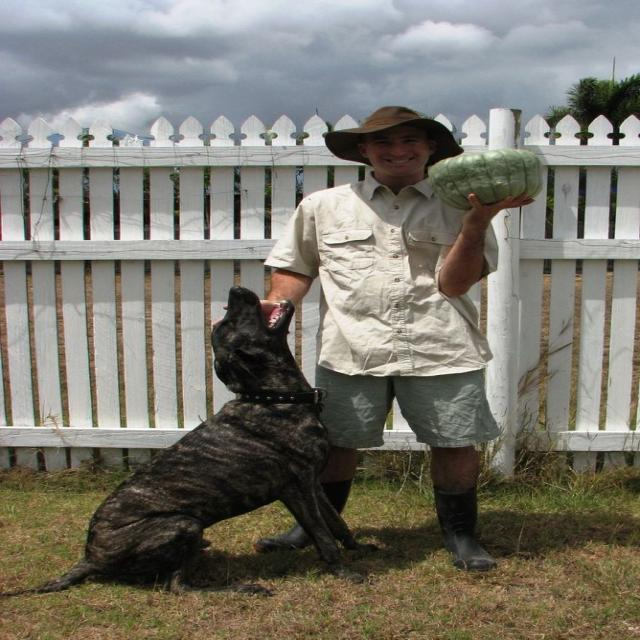Hat: (321, 105, 462, 171)
